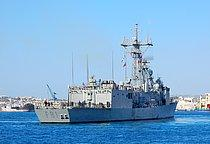MIL_Ship: (33, 21, 178, 124)
